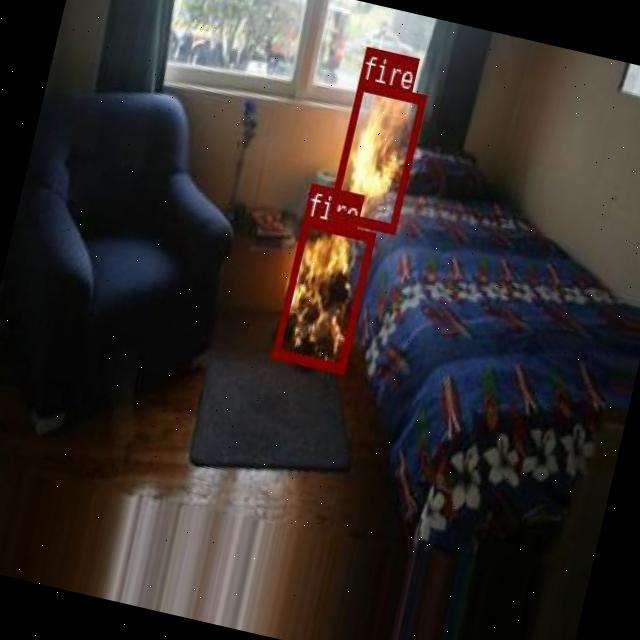fire: (272, 215, 376, 372), (326, 78, 424, 230)
